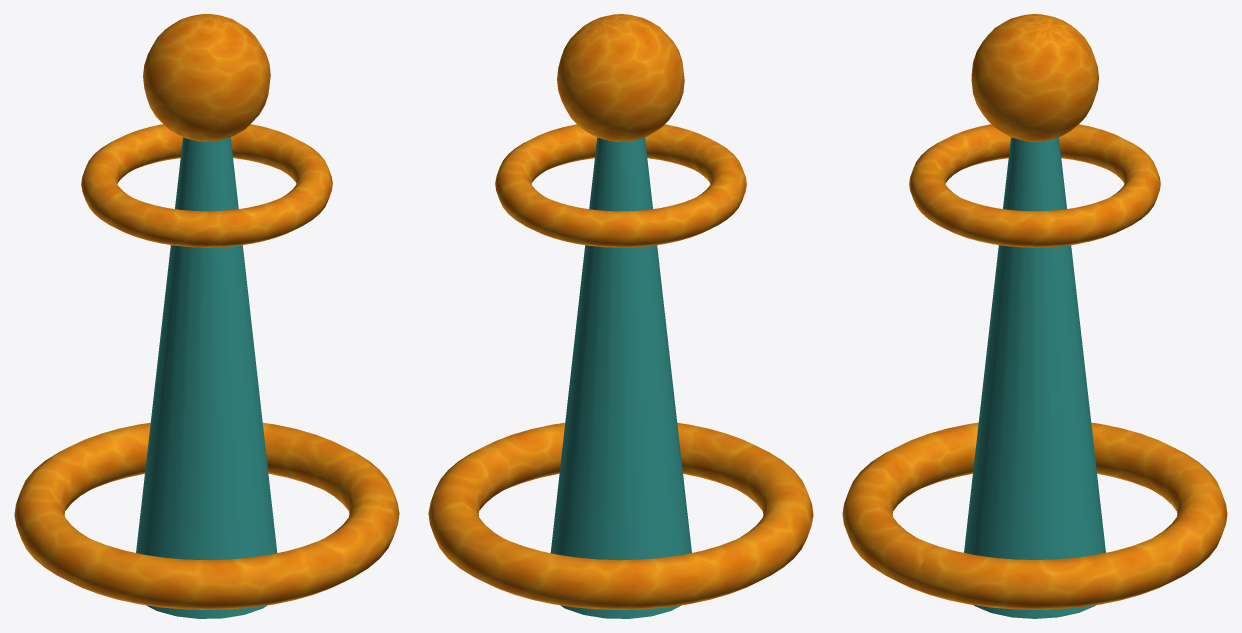
Rendered from IceLakeHeatPole.fbx.
3 views of the same model, side by side, from view 1: azimuth 30°, elevation 25°; view 2: azimuth 150°, elevation 25°; view 3: azimuth 270°, elevation 25° (orthographic).
Parts seen in each view (by area): view 1: IceLakeHeatPole, IceLakeHeatPole.001; view 2: IceLakeHeatPole, IceLakeHeatPole.001; view 3: IceLakeHeatPole, IceLakeHeatPole.001.
Boxes of the visible parts, <box> form: IceLakeHeatPole: <box>14,14,399,609</box>; IceLakeHeatPole.001: <box>136,137,277,618</box>; IceLakeHeatPole: <box>428,14,813,609</box>; IceLakeHeatPole.001: <box>550,137,691,618</box>; IceLakeHeatPole: <box>842,14,1227,609</box>; IceLakeHeatPole.001: <box>964,137,1105,618</box>.
Bounding box in the file's own units: 60.67 × 60.67 × 98.66.
